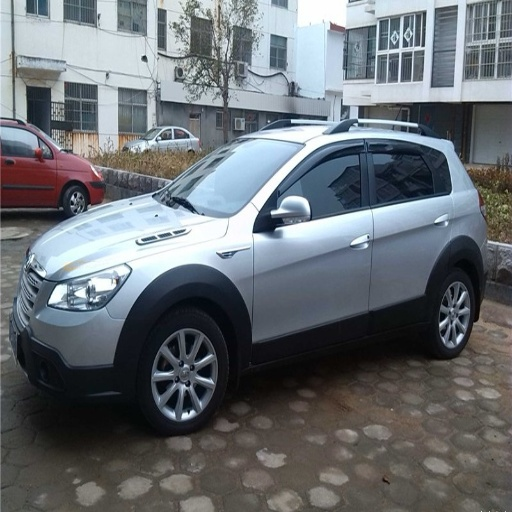front_bumper: (14, 272, 142, 397)
front_glass: (152, 140, 296, 216)
front_left_door: (259, 138, 373, 356)
front_left_light: (48, 263, 130, 311)
